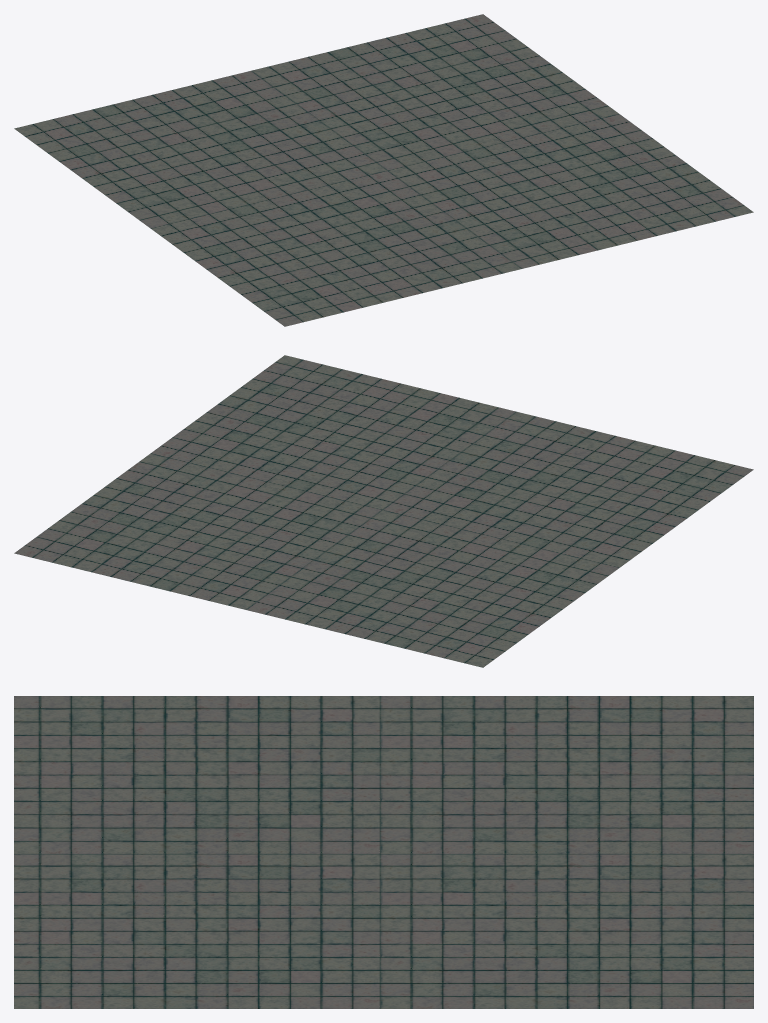
The model's file is Suelo.fbx.
3 renders of one model, top to bottom at view 1: azimuth 30°, elevation 25°; view 2: azimuth 150°, elevation 25°; view 3: azimuth 270°, elevation 25°, orthographic. The views are drawn at different scales.
Visible parts, largest first — view 1: pPlane1; view 2: pPlane1; view 3: pPlane1.
Boxes of the visible parts, x1,y1,x2,y2 form: pPlane1: [14, 14, 753, 326]; pPlane1: [14, 355, 753, 667]; pPlane1: [14, 696, 753, 1008].
Bounding box in the file's own units: 24 × 5.33e-15 × 24.
Materials: 1 (1 with a texture image).
